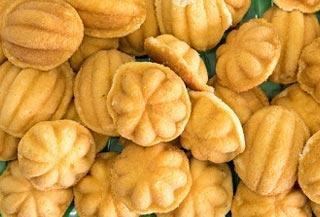kanomkai: (229, 96, 308, 199), (106, 58, 192, 152), (15, 116, 98, 192), (1, 1, 86, 74)
